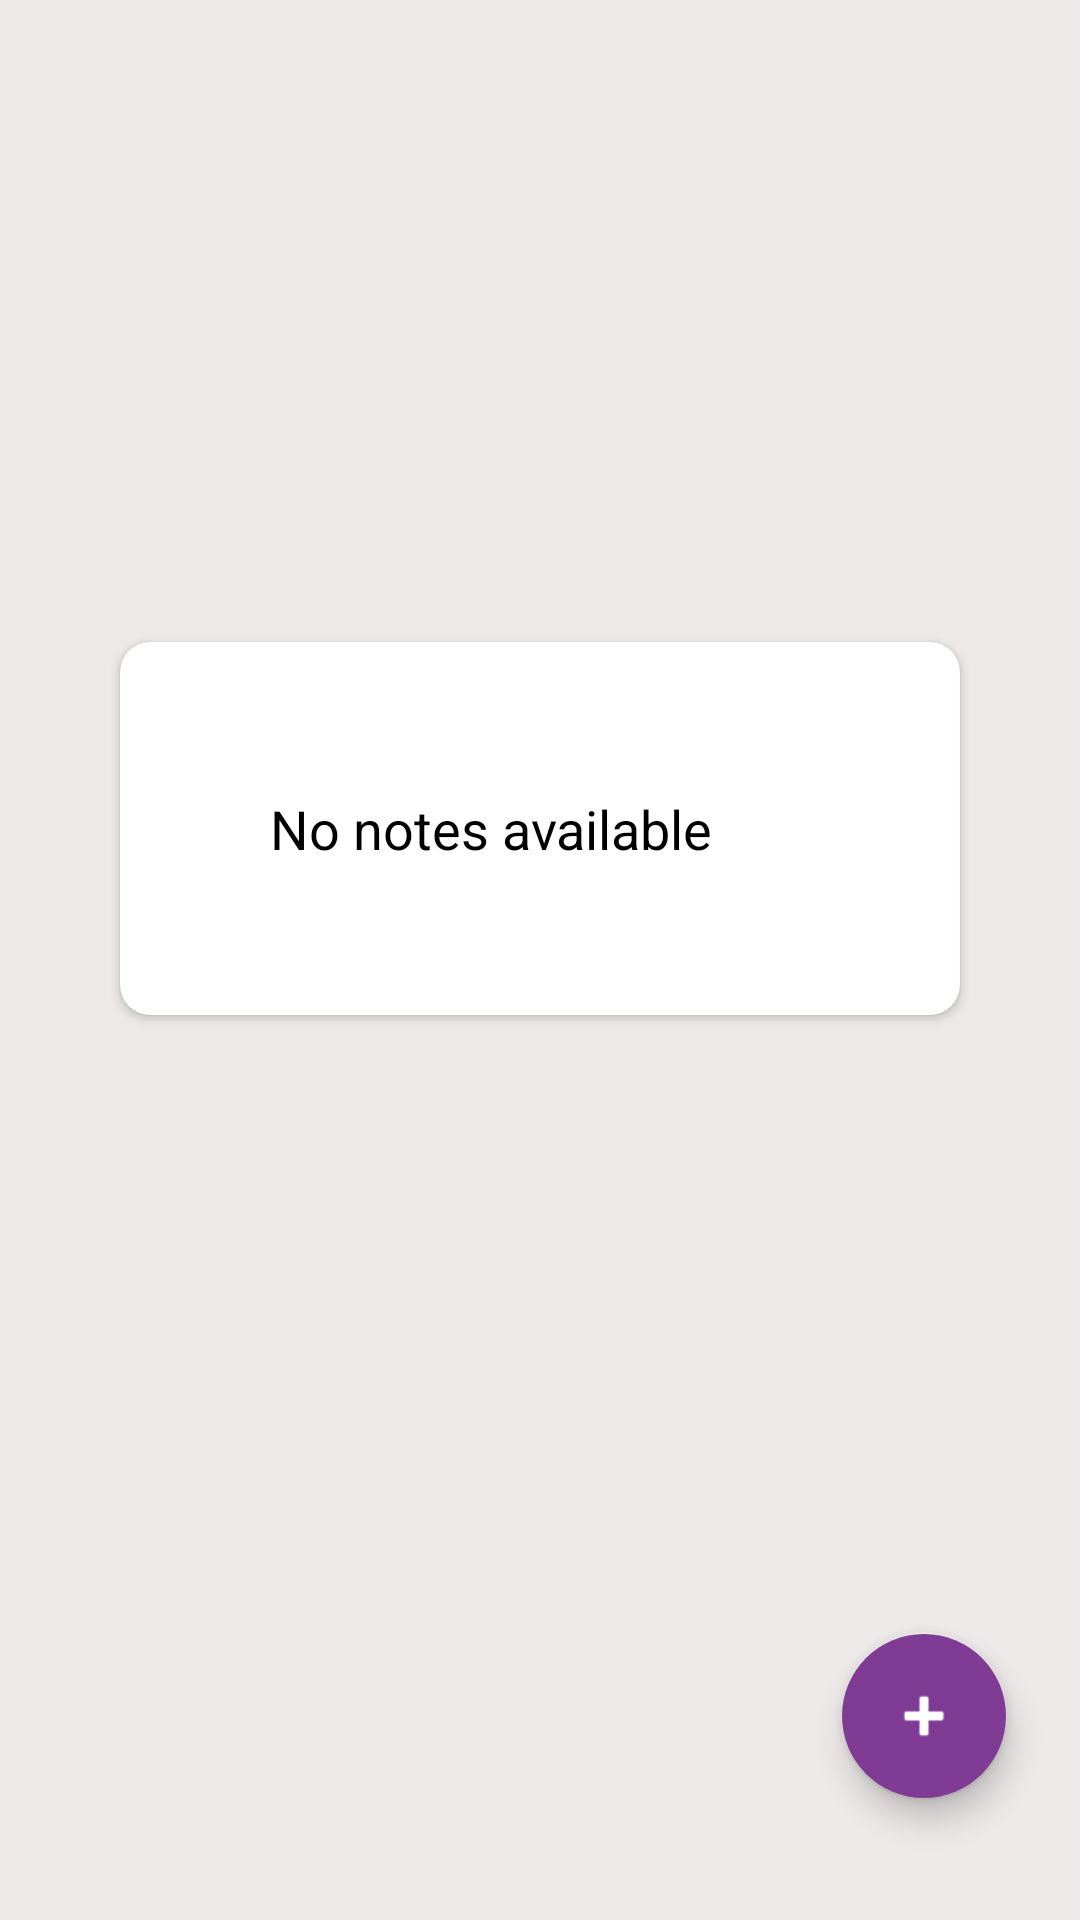

Screen size 1080px×1920px. Icon name, then its center in pixels as point (x, y):
add: point (925, 1717)
